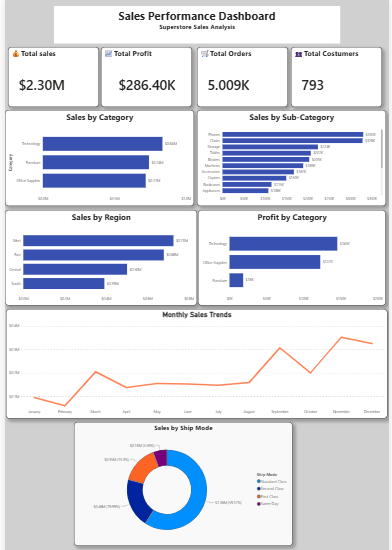

The dashboard page shown, as its layout file describes it:
{"tool":"powerbi","page":{"name":"Sales Performance Dashboard ","canvas":[1280,2000],"ordinal":0},"visuals":[{"type":"cardVisual","title":"💰Total sales","fields":{"Data":["Sum(Sample_ Superstore.Sales)"]},"box":[8.7,159.4,303,200],"z":0},{"type":"cardVisual","title":"📈Total Profit","fields":{"Data":["Sum(Sample_ Superstore.Profit)"]},"box":[320.3,159.4,303,200],"z":1000},{"type":"cardVisual","title":"🛒Total Orders","fields":{"Data":["Count(Sample_ Superstore.Order ID)"]},"box":[639.1,159.4,303,200],"z":2000},{"type":"cardVisual","title":"👥Total Costumers","fields":{"Data":["Count(Sample_ Superstore.Customer ID)"]},"box":[953.6,159.4,303,200],"z":3000},{"type":"clusteredBarChart","title":"Sales by Category","fields":{"Category":["Sample_ Superstore.Category"],"Y":["Sum(Sample_ Superstore.Sales)"]},"box":[0,371,630,320],"z":4000},{"type":"clusteredBarChart","title":"Sales by Sub-Category","fields":{"Category":["Sample_ Superstore.Sub-Category"],"Y":["Sum(Sample_ Superstore.Sales)"]},"box":[640.6,371,630,320],"z":5000},{"type":"clusteredBarChart","title":" Sales by Region","fields":{"Category":["Sample_ Superstore.Region"],"Y":["Sum(Sample_ Superstore.Sales)"]},"box":[0,704.3,640,318],"z":6000},{"type":"clusteredBarChart","title":" Profit by Category","fields":{"Y":["Sum(Sample_ Superstore.Profit)"],"Category":["Sample_ Superstore.Category"]},"box":[644.9,704.3,626,318],"z":7000},{"type":"lineChart","title":" Monthly Sales Trends","fields":{"Category":["Sample_ Superstore.Order Date.Variation.Date Hierarchy.Month"],"Y":["Sum(Sample_ Superstore.Sales)"]},"box":[4.3,1034.8,1270.8,365.3],"z":8000},{"type":"donutChart","title":" Sales by Ship Mode","fields":{"Category":["Sample_ Superstore.Ship Mode"],"Y":["Sum(Sample_ Superstore.Sales)"]},"box":[230.4,1411.6,727.5,413],"z":9000},{"type":"textbox","box":[162.3,24.6,953.6,124.6],"z":10000}]}

Visuals, with their boxes on the page's 1280x2000 design canvas (x1, y1, x2, y2). These are canvas units, not pixel positions in the 392x550 screenshot, which may show the page scaled, cropped or inside an application window:
"💰Total sales" cardVisual: bbox=[9, 159, 312, 359]
"📈Total Profit" cardVisual: bbox=[320, 159, 623, 359]
"🛒Total Orders" cardVisual: bbox=[639, 159, 942, 359]
"👥Total Costumers" cardVisual: bbox=[954, 159, 1257, 359]
"Sales by Category" clusteredBarChart: bbox=[0, 371, 630, 691]
"Sales by Sub-Category" clusteredBarChart: bbox=[641, 371, 1271, 691]
" Sales by Region" clusteredBarChart: bbox=[0, 704, 640, 1022]
" Profit by Category" clusteredBarChart: bbox=[645, 704, 1271, 1022]
" Monthly Sales Trends" lineChart: bbox=[4, 1035, 1275, 1400]
" Sales by Ship Mode" donutChart: bbox=[230, 1412, 958, 1825]
textbox: bbox=[162, 25, 1116, 149]
